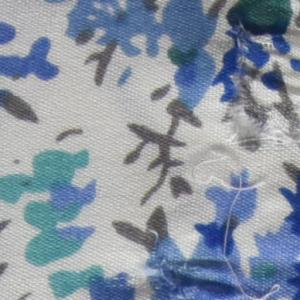Damage: (209, 1, 300, 161), (85, 223, 208, 300)
